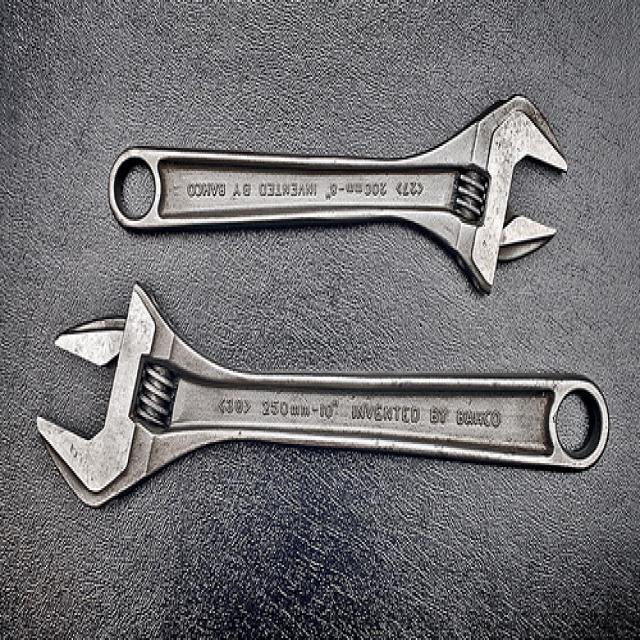wrench: (28, 276, 616, 522), (102, 82, 576, 308)
